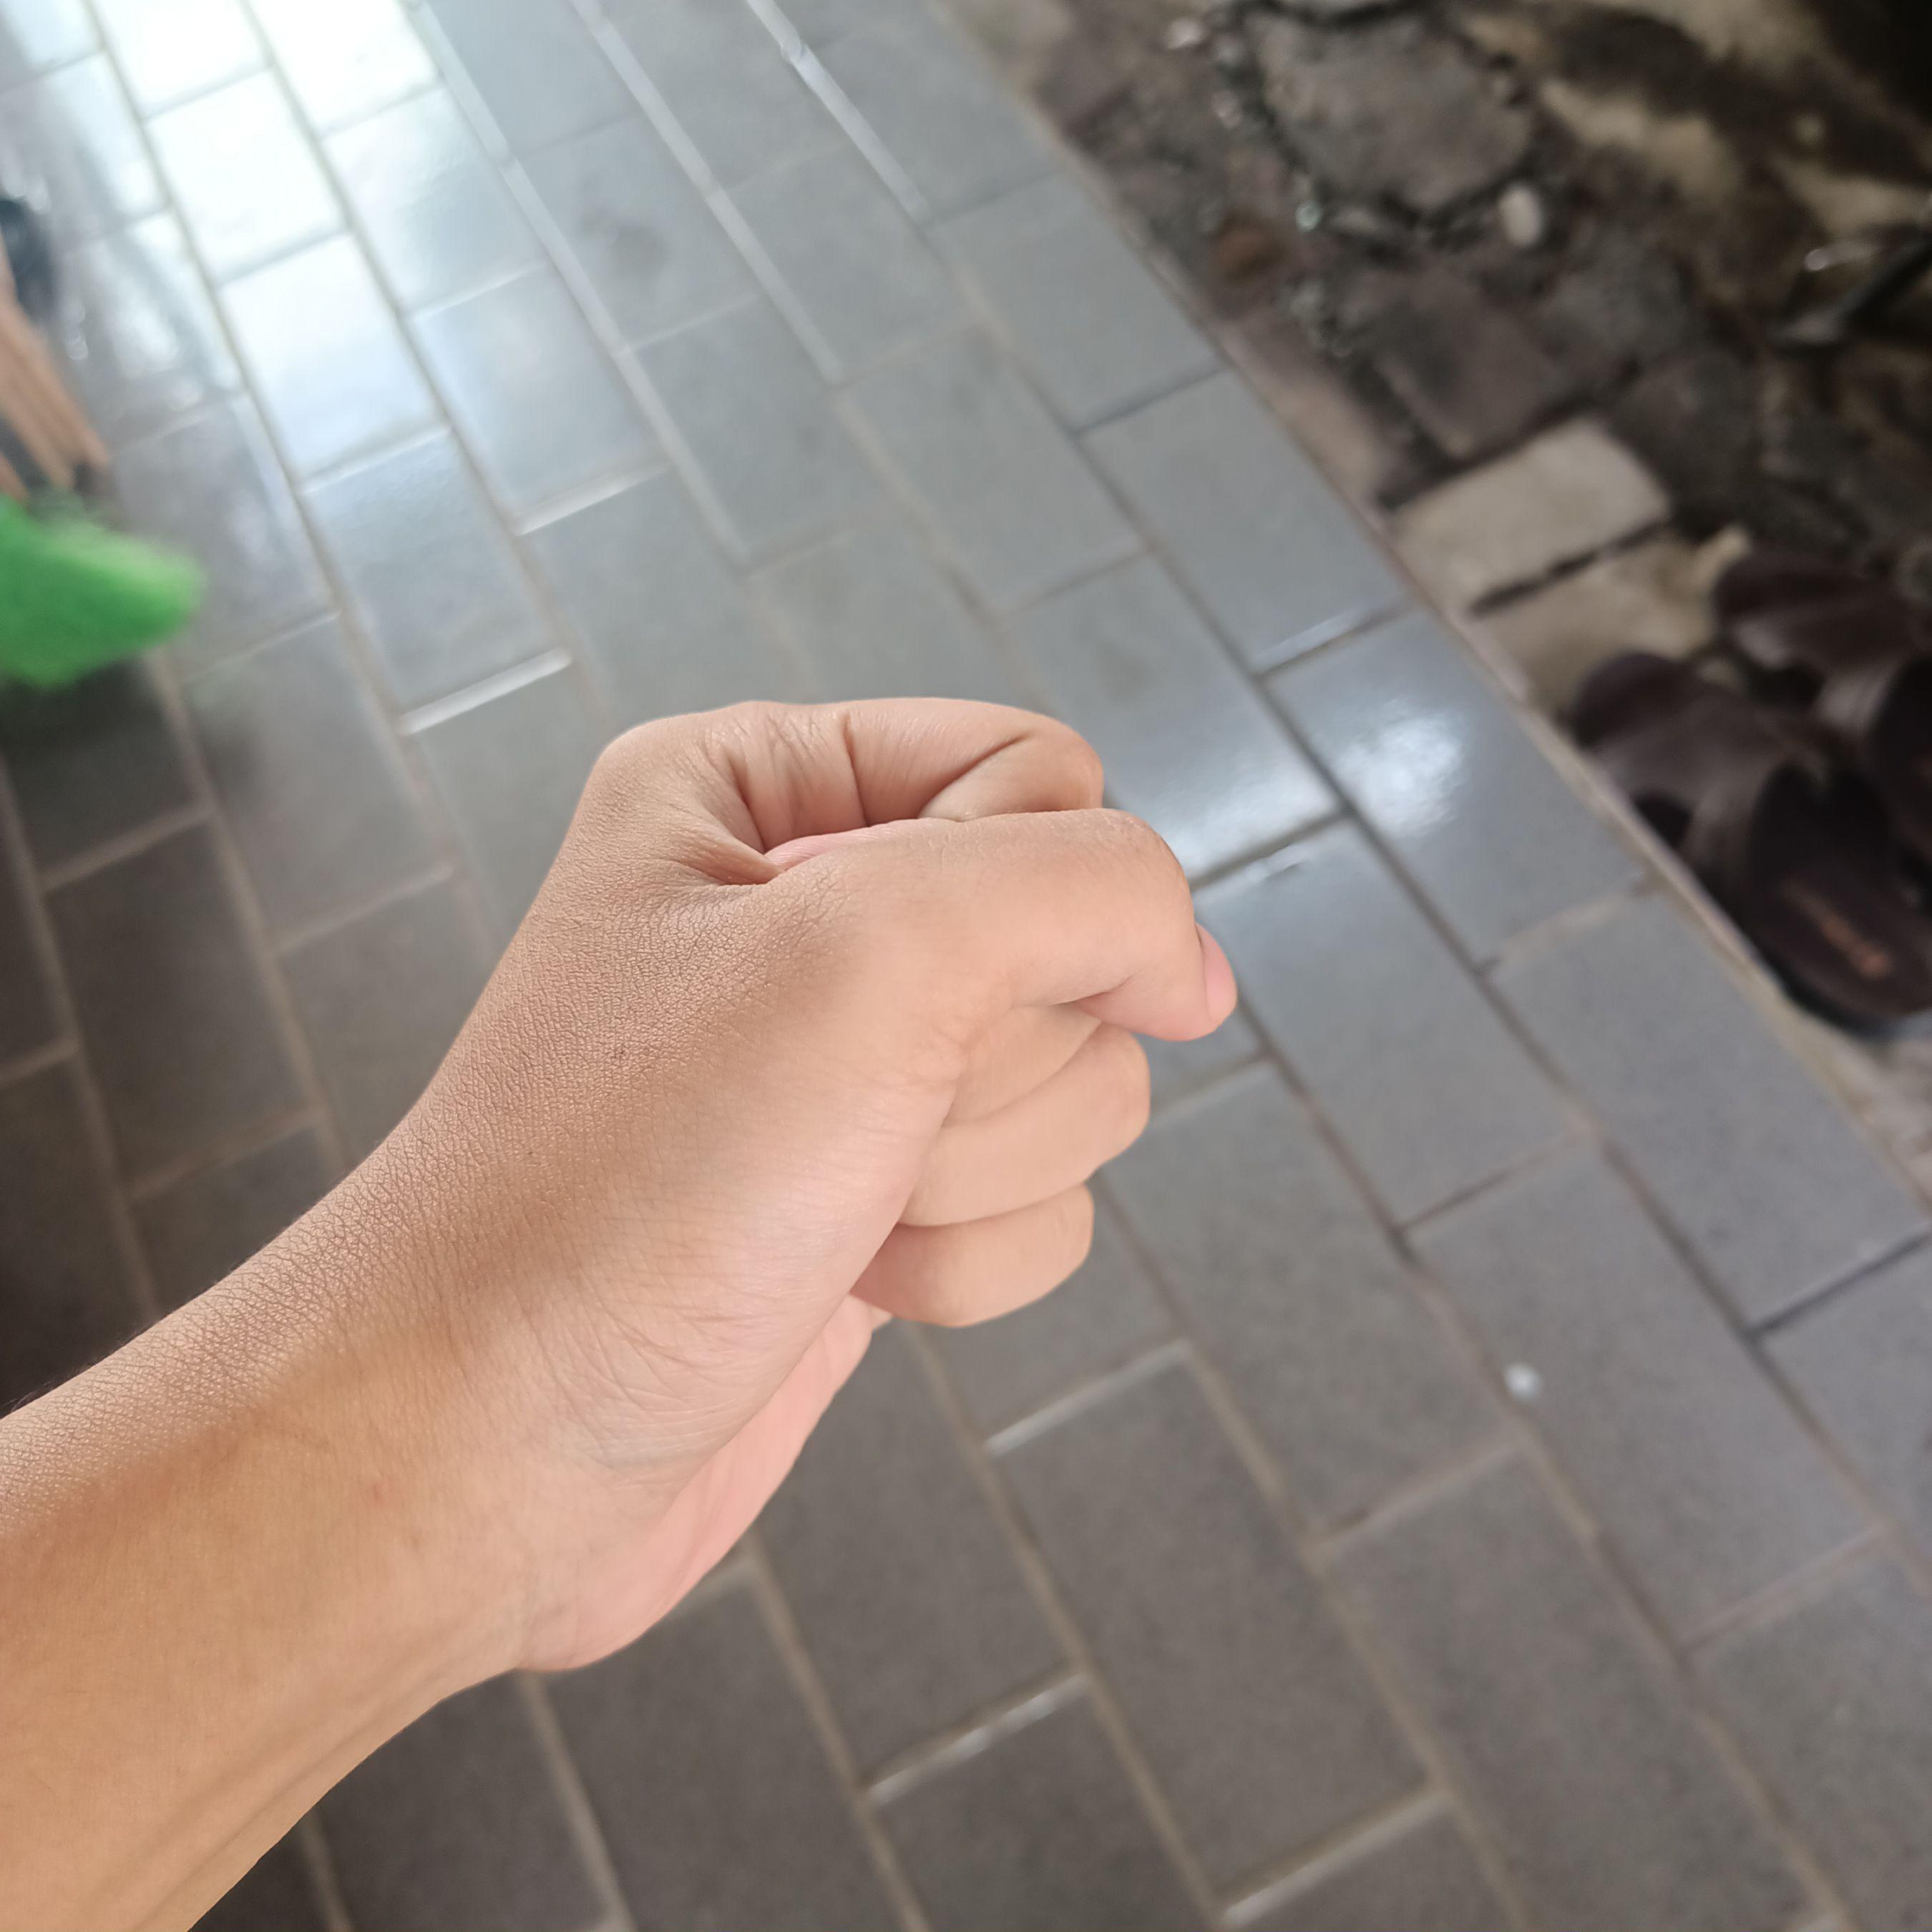rock: (299, 713, 1272, 1688)
